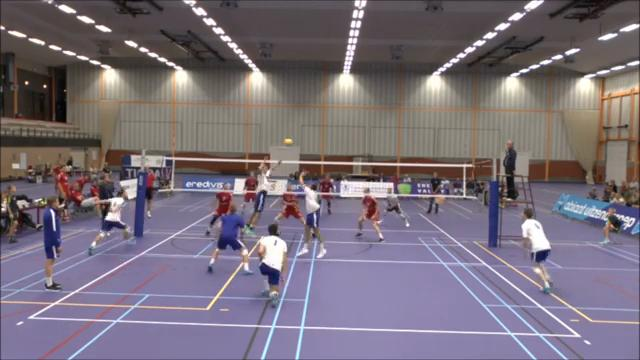Attack: (238, 153, 279, 236)
Player: (207, 204, 251, 274), (88, 189, 129, 255), (521, 208, 551, 292), (258, 224, 287, 306), (356, 188, 384, 242), (205, 183, 232, 235), (274, 184, 304, 224), (384, 188, 409, 226), (241, 171, 257, 214), (319, 174, 333, 214)
Set: (296, 167, 330, 260)
ball: (283, 135, 293, 149)
